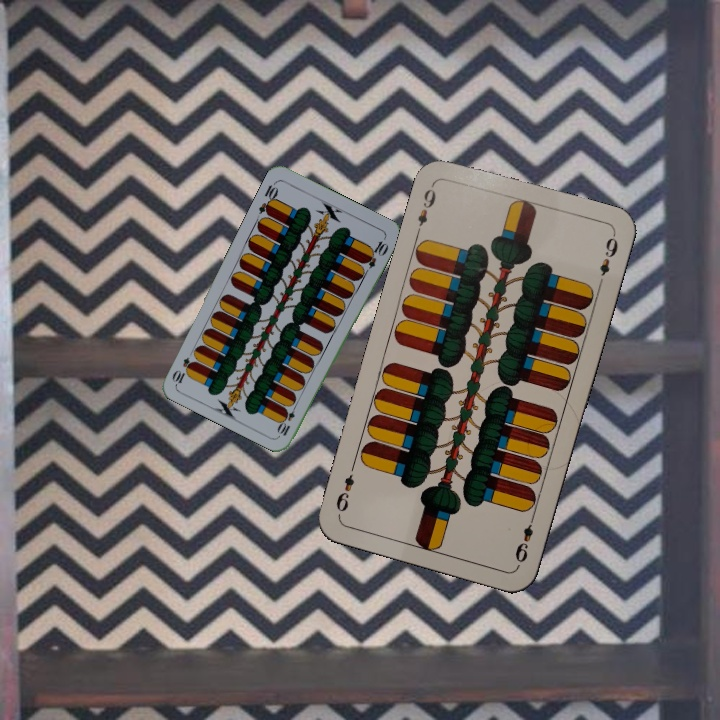E10: (255, 178, 281, 218), (275, 399, 300, 439)
E9: (412, 180, 439, 237), (511, 510, 538, 566)
